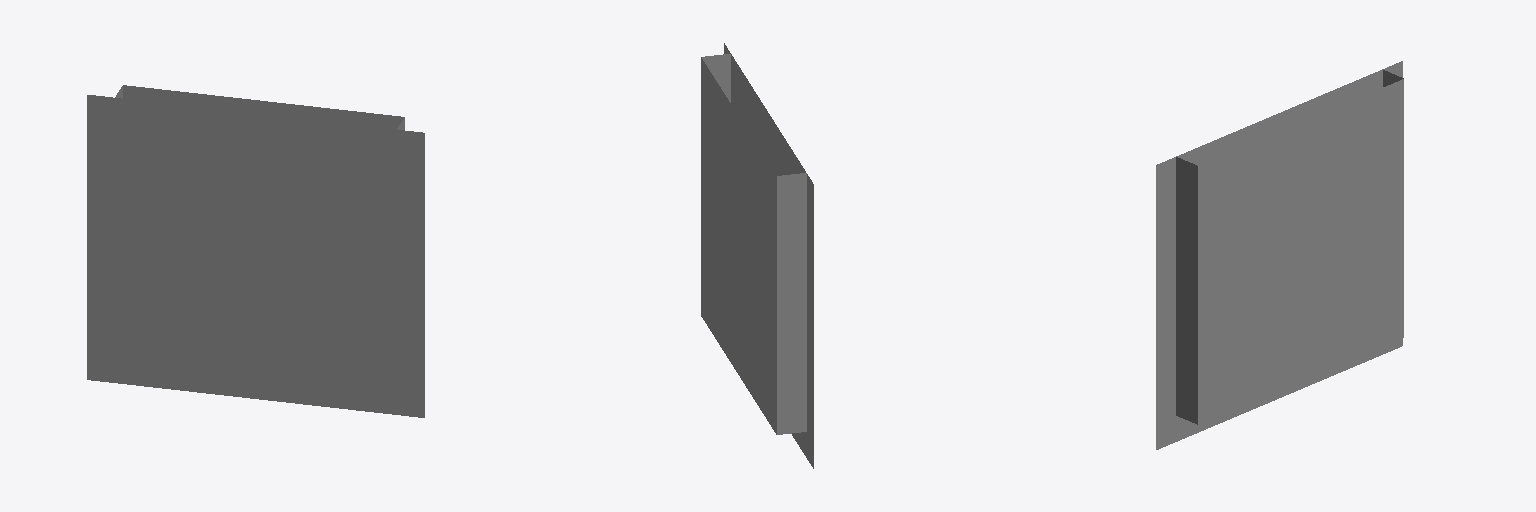
Rendered from marker_switch_door_bottom_open.obj.
3 views of the same model, side by side, from view 1: azimuth 30°, elevation 25°; view 2: azimuth 150°, elevation 25°; view 3: azimuth 270°, elevation 25° (orthographic).
Parts seen in each view (by area): view 1: podium.002_Cube.016; view 2: podium.002_Cube.016; view 3: podium.002_Cube.016.
Boxes of the visible parts, x1=… form: podium.002_Cube.016: x1=87, y1=85, x2=424, y2=417; podium.002_Cube.016: x1=701, y1=43, x2=813, y2=468; podium.002_Cube.016: x1=1156, y1=61, x2=1403, y2=449.
Bounding box in the file's own units: 0.5025 × 0.636 × 0.5025.